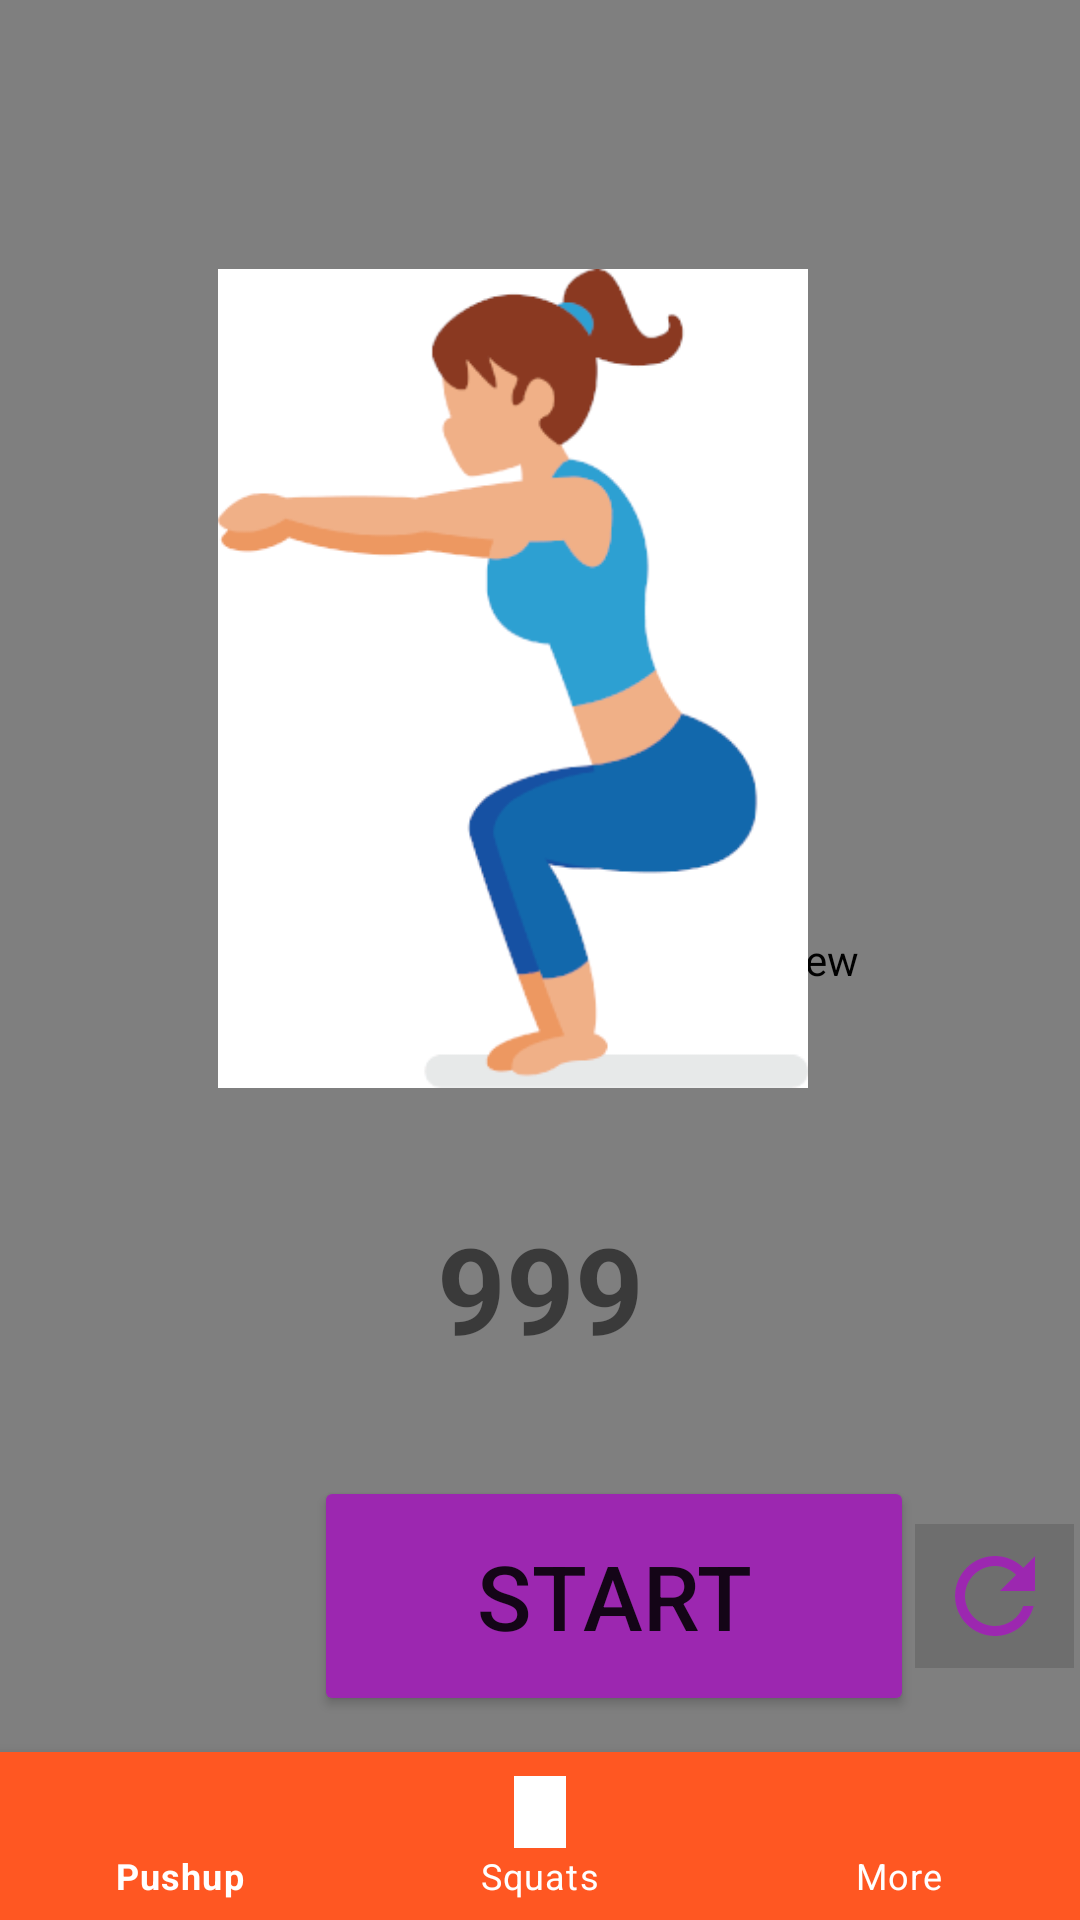

Icon bounding boxes for this 1080px x 1920px phone screenshot, format [x1, y1, x2, y2]:
refresh: [915, 1524, 1074, 1668]
